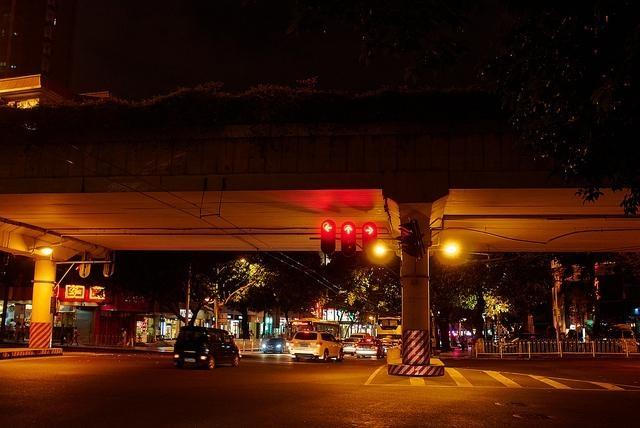car: (174, 326, 242, 370), (288, 330, 344, 364), (356, 339, 382, 356), (262, 338, 286, 354), (342, 338, 360, 356), (381, 342, 395, 355)
